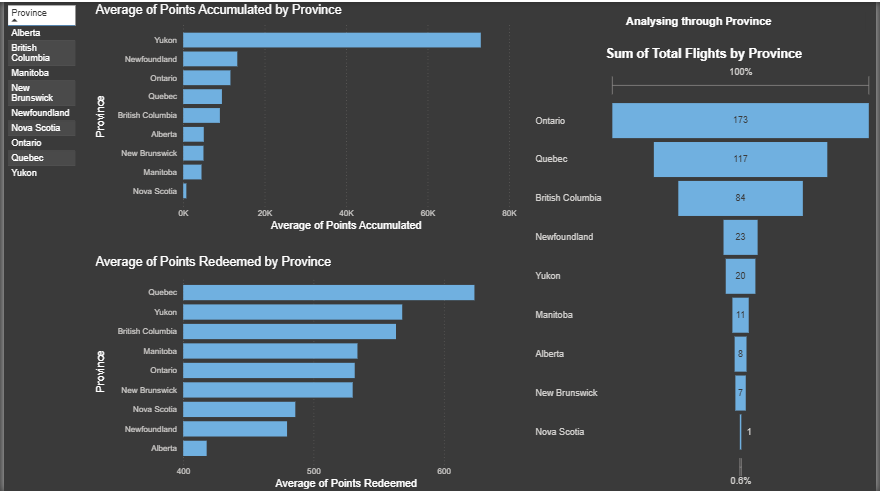

Layout of this report page (visuals, bound fields, positions):
{"tool":"powerbi","page":{"name":"Page 3","canvas":[1280,720],"ordinal":2},"visuals":[{"type":"clusteredBarChart","fields":{"Category":["Customer_Loyalty_History[1].Province"],"Y":["Avg(Customer_Flight_Activity[1].Points Accumulated)"]},"box":[129.3,0,628.9,340.9],"z":0},{"type":"funnel","fields":{"Category":["Customer_Loyalty_History[1].Province"],"Y":["Sum(Customer_Flight_Activity[1].Total Flights)"]},"box":[775.3,64.2,504.9,655.8],"z":1000},{"type":"barChart","fields":{"Category":["Customer_Loyalty_History[1].Province"],"Y":["Avg(Customer_Flight_Activity[1].Points Redeemed)"]},"box":[129.3,370.3,628.9,349.7],"z":2000},{"type":"textbox","box":[775.3,14.9,490,29.9],"z":3000},{"type":"tableEx","fields":{"Values":["Customer_Loyalty_History[1].Province"]},"box":[0,0,119.5,720],"z":4000}]}

Visuals, with their boxes in screenshot pixels (x1, y1, x2, y2), scaled from the page's 1280x720 canvas onto the 880x491 screenshot:
clusteredBarChart - Customer_Loyalty_History[1].Province x Avg(Customer_Flight_Activity[1].Points Accumulated): 89:0:521:232
funnel - Customer_Loyalty_History[1].Province x Sum(Customer_Flight_Activity[1].Total Flights): 533:44:879:490
barChart - Customer_Loyalty_History[1].Province x Avg(Customer_Flight_Activity[1].Points Redeemed): 89:253:521:490
textbox: 533:10:870:31
tableEx - Customer_Loyalty_History[1].Province: 0:0:82:490
